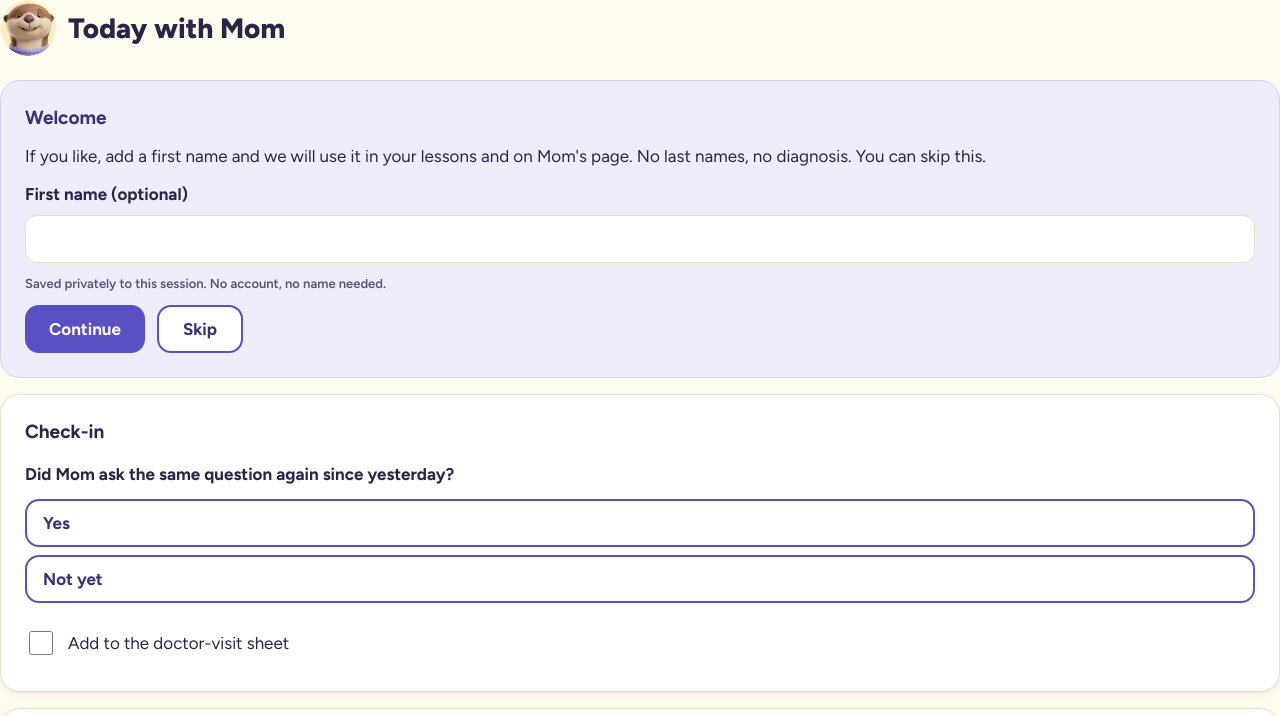
Test: Check-in card › didn't help shows the follow-up list
The image size is (1280, 716).
Expected: the heading "Today with Mom" is shown, [68,11,285,45]
Click the button "Yes". click: x=56, y=523
box: [25,499,1255,547]
(page scrolled)
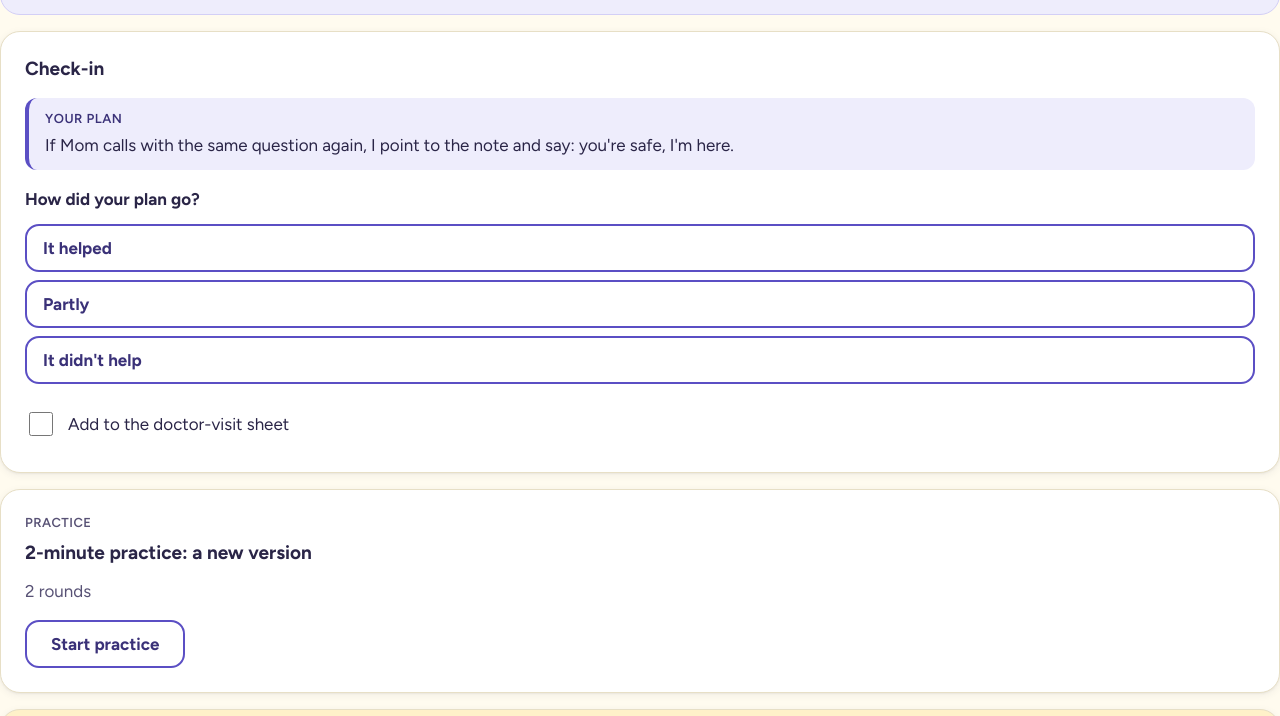
Click the button "It didn't help". click: x=92, y=360
box: [25,336,1255,384]
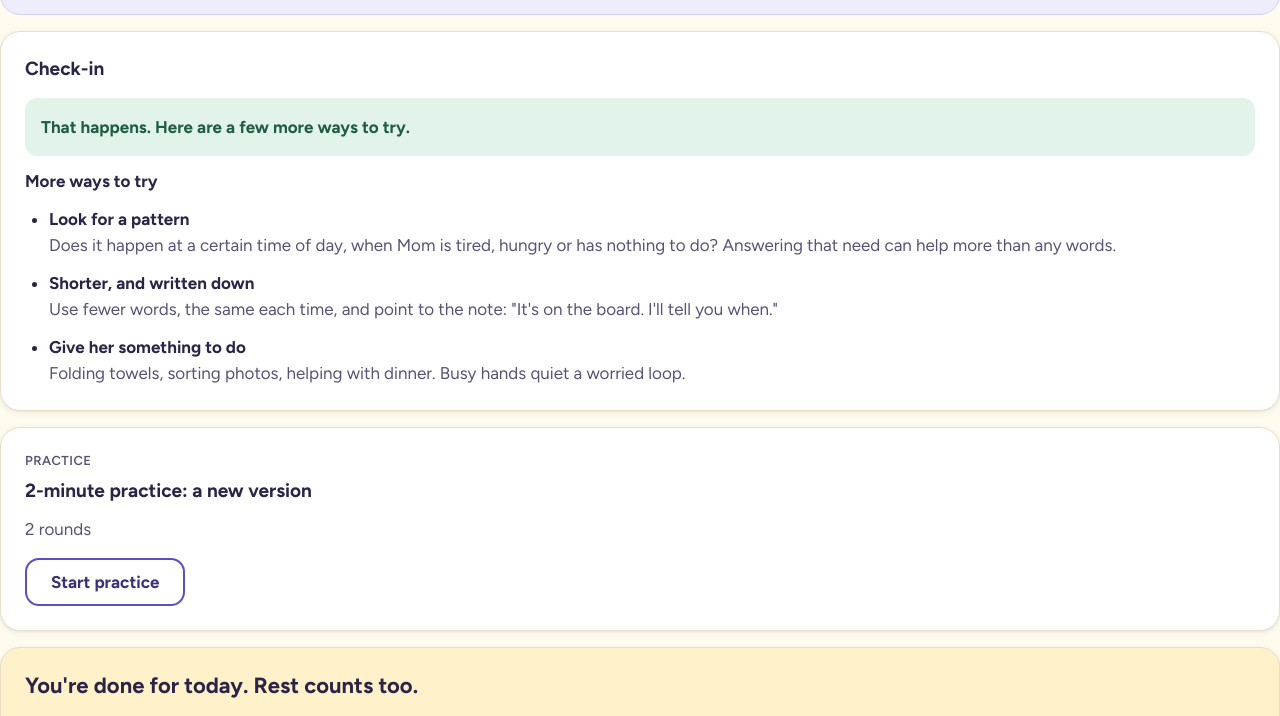
Now the text "Look for a pattern" is shown, box [49,209,189,229]
Now the text "Shorter, and written down" is shown, box [49,273,254,293]
Now the text "Give her something to do" is shown, box [49,337,246,357]
